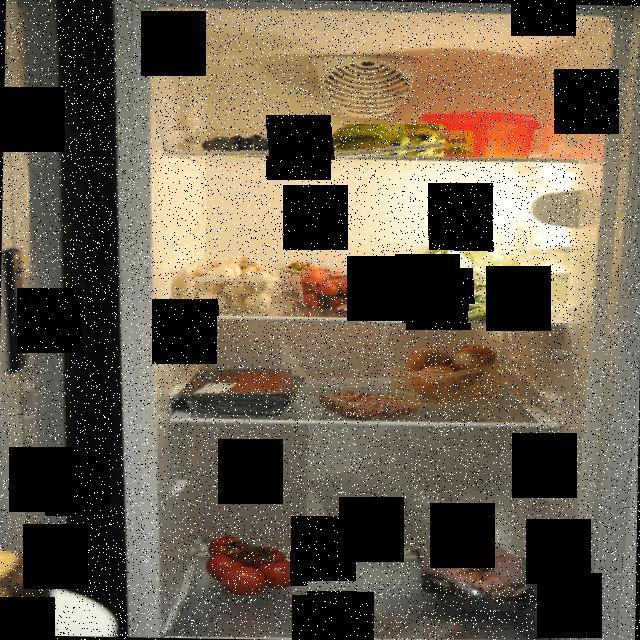banana: (313, 124, 445, 162)
beef: (195, 370, 292, 408)
blueberries: (186, 125, 282, 158)
butter: (417, 111, 549, 158)
chicken: (411, 531, 541, 611)
green_beans: (344, 281, 568, 323)
mushrooms: (189, 254, 283, 316)
onion: (403, 342, 499, 399)
shrimp: (316, 385, 419, 419)
spinach: (368, 228, 546, 304)
strawberries: (271, 259, 375, 309)
tomato: (205, 529, 309, 595)
